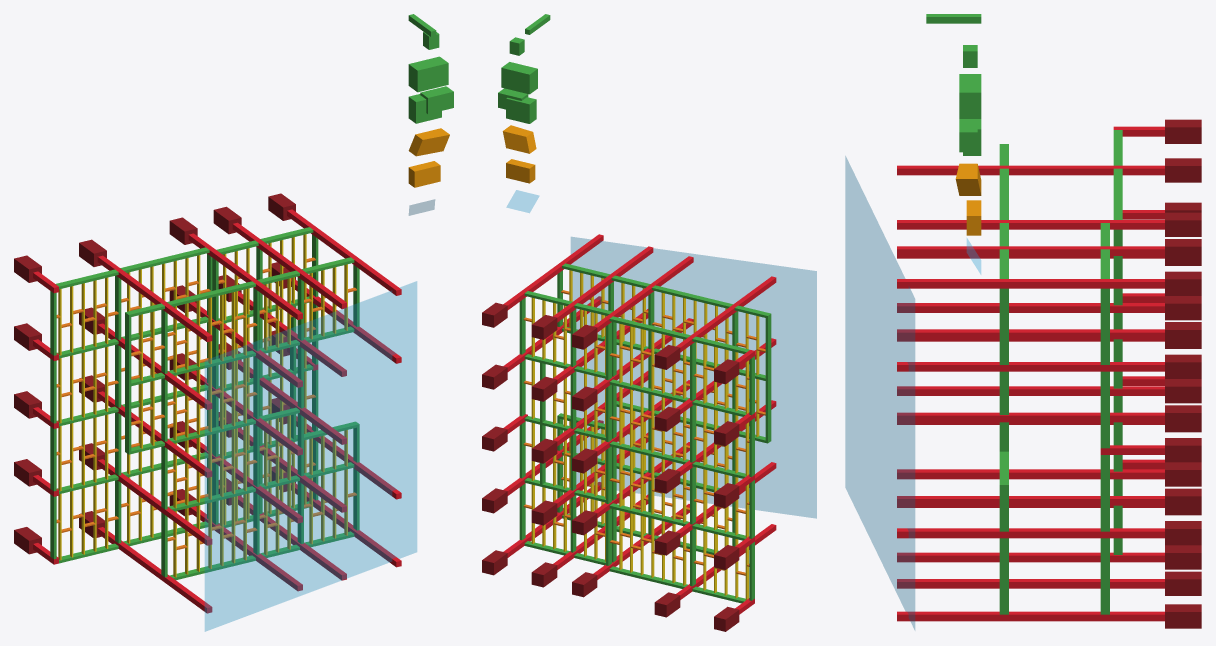
The model's file is tinker.obj.
3 views of the same model, side by side, from view 1: azimuth 30°, elevation 25°; view 2: azimuth 150°, elevation 25°; view 3: azimuth 270°, elevation 25° (orthographic). The views are drawn at different scales.
Parts seen in each view (by area): view 1: obj_424, obj_420, obj_1, obj_4, obj_3, obj_2, obj_421, obj_20, obj_15, obj_13, obj_6, obj_11 (+12 smaller); view 2: obj_424, obj_420, obj_421, obj_1, obj_3, obj_2, obj_4, obj_419, obj_13, obj_21, obj_7, obj_9 (+42 smaller); view 3: obj_424, obj_18, obj_23, obj_13, obj_8, obj_16, obj_21, obj_4, obj_9, obj_1, obj_3, obj_17 (+44 smaller).
Part boxes in pixels (x1,y1,x2,y2): obj_424: (205, 281, 416, 631); obj_420: (408, 86, 453, 123); obj_1: (97, 255, 212, 341); obj_4: (287, 209, 401, 295); obj_3: (232, 222, 346, 308); obj_2: (188, 233, 302, 319); obj_421: (408, 56, 448, 92); obj_20: (97, 527, 212, 613); obj_15: (97, 459, 212, 545); obj_13: (238, 360, 346, 444); obj_6: (97, 323, 212, 409); obj_11: (97, 391, 212, 477); obj_424: (571, 237, 816, 518); obj_420: (498, 88, 536, 123); obj_421: (501, 62, 537, 94); obj_1: (676, 276, 776, 352); obj_3: (553, 246, 653, 322); obj_2: (593, 256, 693, 332); obj_4: (503, 234, 603, 310); obj_419: (502, 125, 536, 153); obj_13: (553, 371, 648, 446); obj_21: (593, 504, 689, 579); obj_7: (593, 318, 693, 394); obj_9: (503, 296, 601, 371); obj_424: (845, 156, 914, 629); obj_18: (897, 528, 1164, 538); obj_23: (897, 611, 1164, 621); obj_13: (897, 412, 1164, 422); obj_8: (897, 329, 1164, 339); obj_16: (897, 469, 1164, 479); obj_21: (897, 552, 1164, 562); obj_4: (897, 279, 1164, 288); obj_9: (897, 362, 1164, 371); obj_1: (897, 165, 1164, 175); obj_3: (897, 246, 1164, 255); obj_17: (897, 496, 1164, 505).
Bounding box in the file's own units: 132 × 192 × 97.05.
